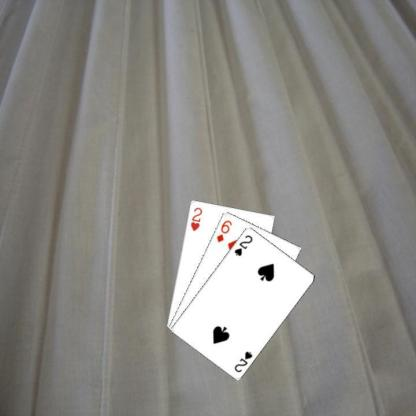2H: (188, 205, 203, 232)
2S: (232, 232, 254, 257), (232, 349, 254, 374)
6D: (214, 217, 233, 243)
